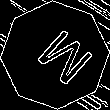M_SW: (21, 21, 89, 89)
